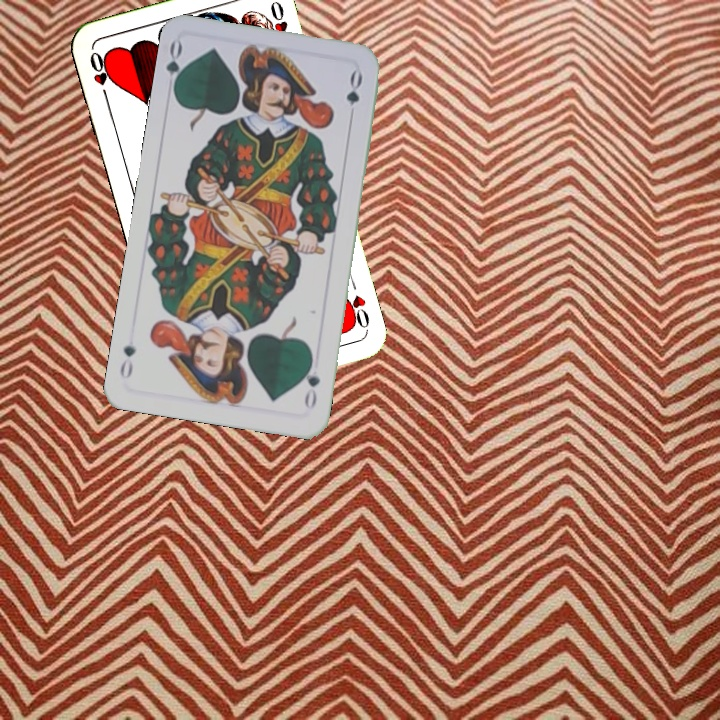GO: (161, 38, 190, 98), (300, 354, 323, 413)
HO: (85, 47, 115, 104), (340, 290, 372, 333)
